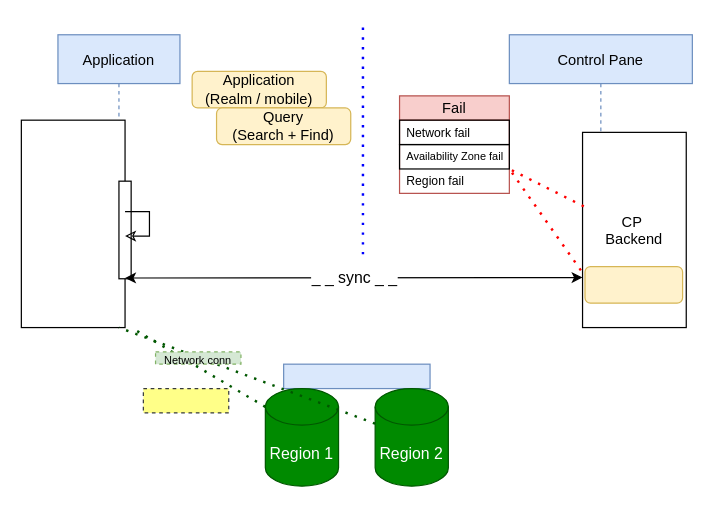
The diagram is 714 pixels wide and 508 high, and some of its shapes have lost their labels. The centre of each missing label's shape, as x and y in pixels:
"App Backend" belongs at (x=72, y=223).
"Atlas" belongs at (x=356, y=376).
"Python VPC Failover API" belongs at (x=633, y=284).
"Repeat Queries" belongs at (x=185, y=400).
